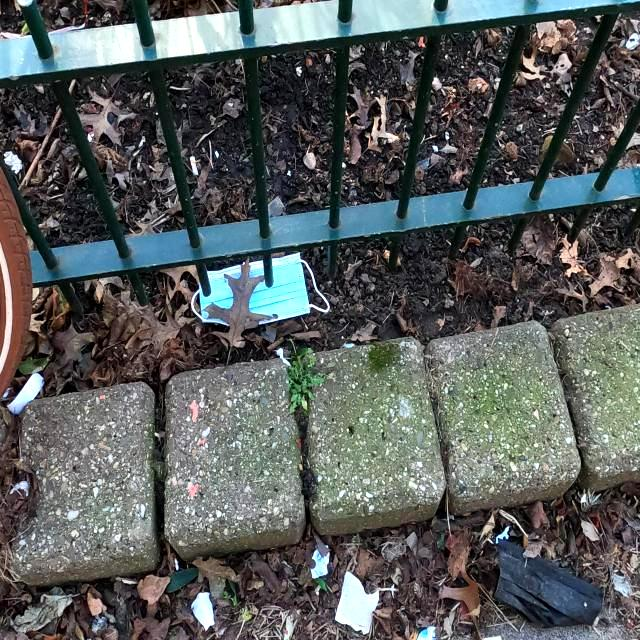Mask: (190, 250, 332, 330), (492, 539, 608, 631)
Paper: (332, 568, 380, 636)
